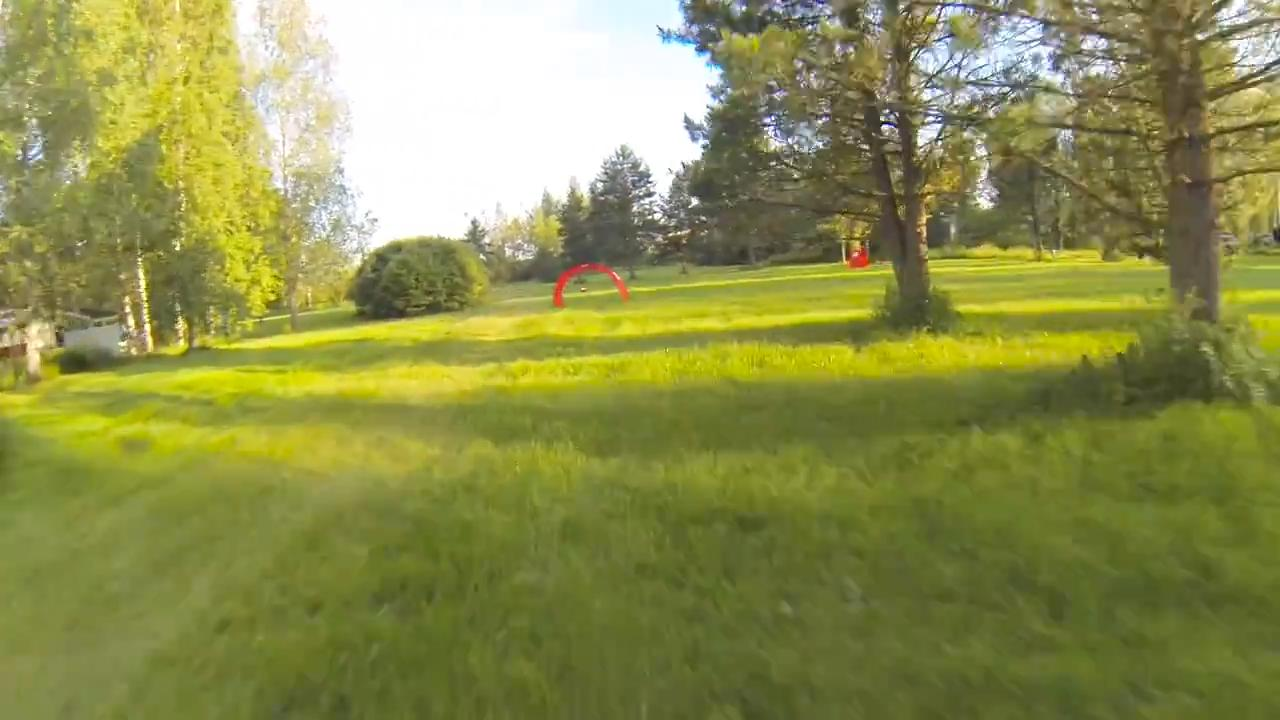gate: (552, 261, 633, 311)
